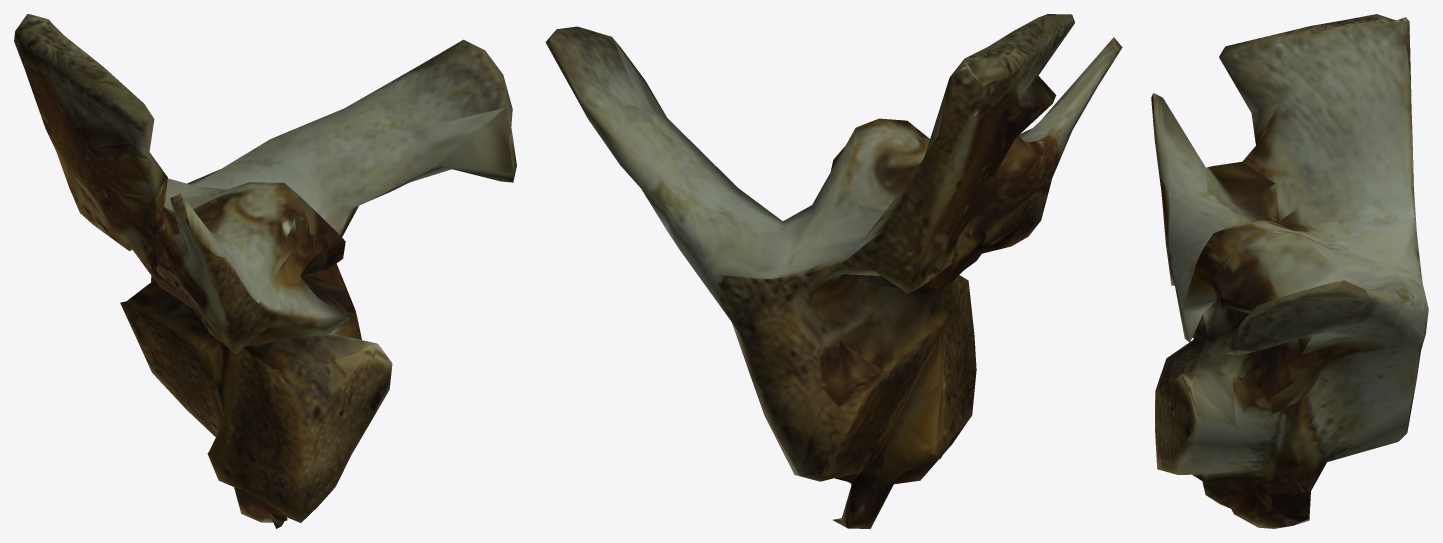
File: Bone02_low.FBX
3 views of the same model, side by side, from view 1: azimuth 30°, elevation 25°; view 2: azimuth 150°, elevation 25°; view 3: azimuth 270°, elevation 25° (orthographic). The views are drawn at different scales.
Parts seen in each view (by area): view 1: Bein02_Low; view 2: Bein02_Low; view 3: Bein02_Low.
Part boxes in pixels (x1,y1,x2,y2): Bein02_Low: (14, 14, 516, 528); Bein02_Low: (545, 14, 1122, 528); Bein02_Low: (1151, 14, 1428, 528).
Bounding box in the file's own units: 23.92 × 26.16 × 14.9.
